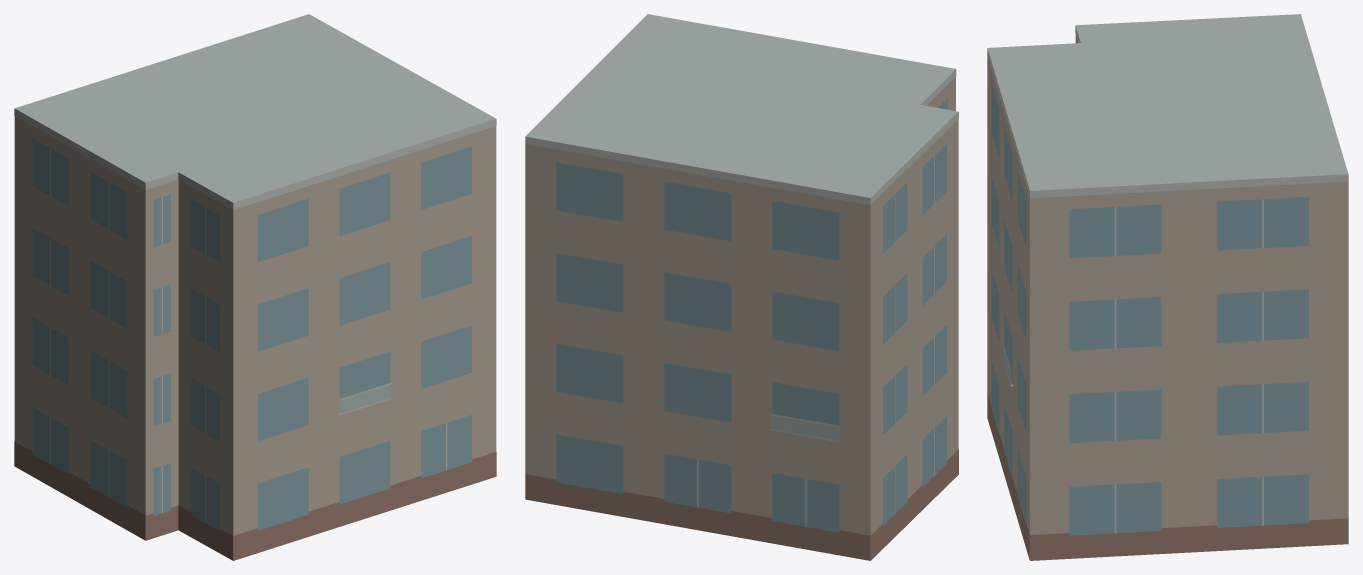
The model's file is survey-upis-32926951.glb.
3 views of the same model, side by side, from view 1: azimuth 30°, elevation 25°; view 2: azimuth 150°, elevation 25°; view 3: azimuth 270°, elevation 25° (orthographic). The views are drawn at different scales.
Parts seen in each view (by area): view 1: survey-upis-32926951.tmp; view 2: survey-upis-32926951.tmp; view 3: survey-upis-32926951.tmp.
Part boxes in pixels (x1,y1,x2,y2): survey-upis-32926951.tmp: (14,14,496,560); survey-upis-32926951.tmp: (525,14,958,560); survey-upis-32926951.tmp: (987,14,1348,560).
Size of the model in its own units: 12.52 by 12.2 by 10.8.
